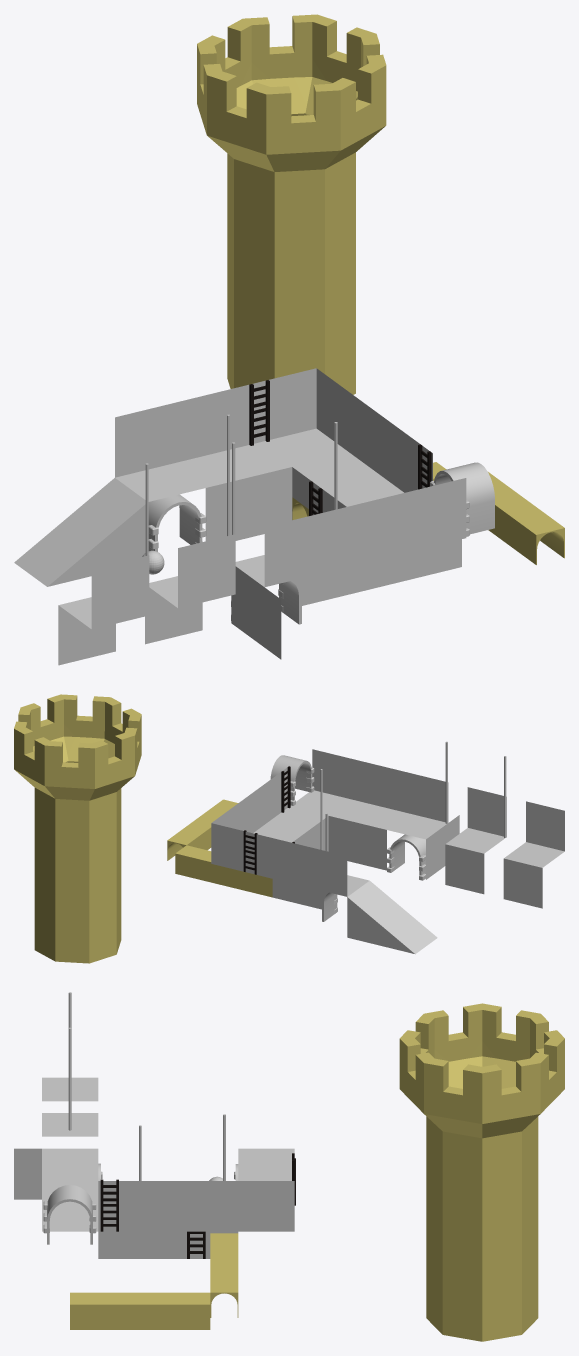
The model's file is test_level1.obj.
3 views of the same model, one above another, from view 1: azimuth 30°, elevation 25°; view 2: azimuth 150°, elevation 25°; view 3: azimuth 270°, elevation 25° (orthographic). The views are drawn at different scales.
Visible parts, largest first — view 1: Cylinder.015_Cylinder.007, Cylinder.014_Cylinder.006, Plane.037_Plane.011, Plane.024_Plane.011, Plane.033_Plane.018, Plane.023_Plane.011, Plane.027_Plane.011, Plane.022_Plane.016, Door.Arch_Cylinder.004, Plane.039_Plane.011, Plane.038_Plane.011, Plane.029_Mousehole.Entrance (+8 smaller); view 2: Cylinder.015_Cylinder.007, Cylinder.014_Cylinder.006, Plane.037_Plane.011, Plane.024_Plane.011, Plane.033_Plane.018, Plane.032_Plane.011, Plane.031_Plane.011, Plane.028_Mousehole.Entrance, Plane.027_Plane.011, Door.Arch_Cylinder.004, Plane.041_Plane.011, Plane.040_Plane.011 (+10 smaller); view 3: Cylinder.015_Cylinder.007, Cylinder.014_Cylinder.006, Plane.027_Plane.011, Plane.029_Mousehole.Entrance, Plane.032_Plane.011, Plane.025_Plane.012, Plane.028_Mousehole.Entrance, Plane.023_Plane.011, Plane.034_Plane.011, Plane.036_Plane.011, Plane.035_Plane.011, Door.Arch_Cylinder.004 (+1 smaller).
Boxes of the visible parts, x1,y1,x2,y2 form: Cylinder.015_Cylinder.007: [227, 152, 355, 394]; Cylinder.014_Cylinder.006: [197, 14, 386, 171]; Plane.037_Plane.011: [264, 478, 466, 586]; Plane.024_Plane.011: [115, 368, 316, 477]; Plane.033_Plane.018: [14, 478, 145, 586]; Plane.023_Plane.011: [115, 428, 349, 501]; Plane.027_Plane.011: [316, 368, 432, 492]; Plane.022_Plane.016: [205, 467, 292, 541]; Door.Arch_Cylinder.004: [148, 462, 494, 624]; Plane.039_Plane.011: [91, 555, 149, 629]; Plane.038_Plane.011: [178, 534, 235, 608]; Plane.029_Mousehole.Entrance: [488, 472, 564, 564]; Cylinder.015_Cylinder.007: [34, 788, 121, 963]; Cylinder.014_Cylinder.006: [14, 694, 141, 800]; Plane.037_Plane.011: [312, 749, 448, 822]; Plane.024_Plane.011: [211, 823, 347, 896]; Plane.033_Plane.018: [347, 880, 437, 954]; Plane.032_Plane.011: [290, 790, 446, 839]; Plane.031_Plane.011: [328, 816, 386, 870]; Plane.028_Mousehole.Entrance: [175, 845, 272, 897]; Plane.027_Plane.011: [211, 766, 289, 833]; Door.Arch_Cylinder.004: [270, 755, 425, 921]; Plane.041_Plane.011: [503, 858, 542, 908]; Plane.040_Plane.011: [445, 844, 484, 894]; Cylinder.015_Cylinder.007: [426, 1116, 538, 1341]; Cylinder.014_Cylinder.006: [399, 1003, 564, 1138]; Plane.027_Plane.011: [98, 1181, 294, 1231]; Plane.029_Mousehole.Entrance: [70, 1292, 210, 1329]; Plane.032_Plane.011: [42, 1148, 98, 1231]; Plane.025_Plane.012: [98, 1231, 238, 1258]; Plane.028_Mousehole.Entrance: [210, 1233, 238, 1317]; Plane.023_Plane.011: [238, 1148, 294, 1180]; Plane.034_Plane.011: [14, 1148, 41, 1199]; Plane.036_Plane.011: [42, 1077, 98, 1101]; Plane.035_Plane.011: [42, 1113, 98, 1136]; Door.Arch_Cylinder.004: [47, 1163, 238, 1244].
Bounding box in the file's own units: 606 × 352 × 628.
